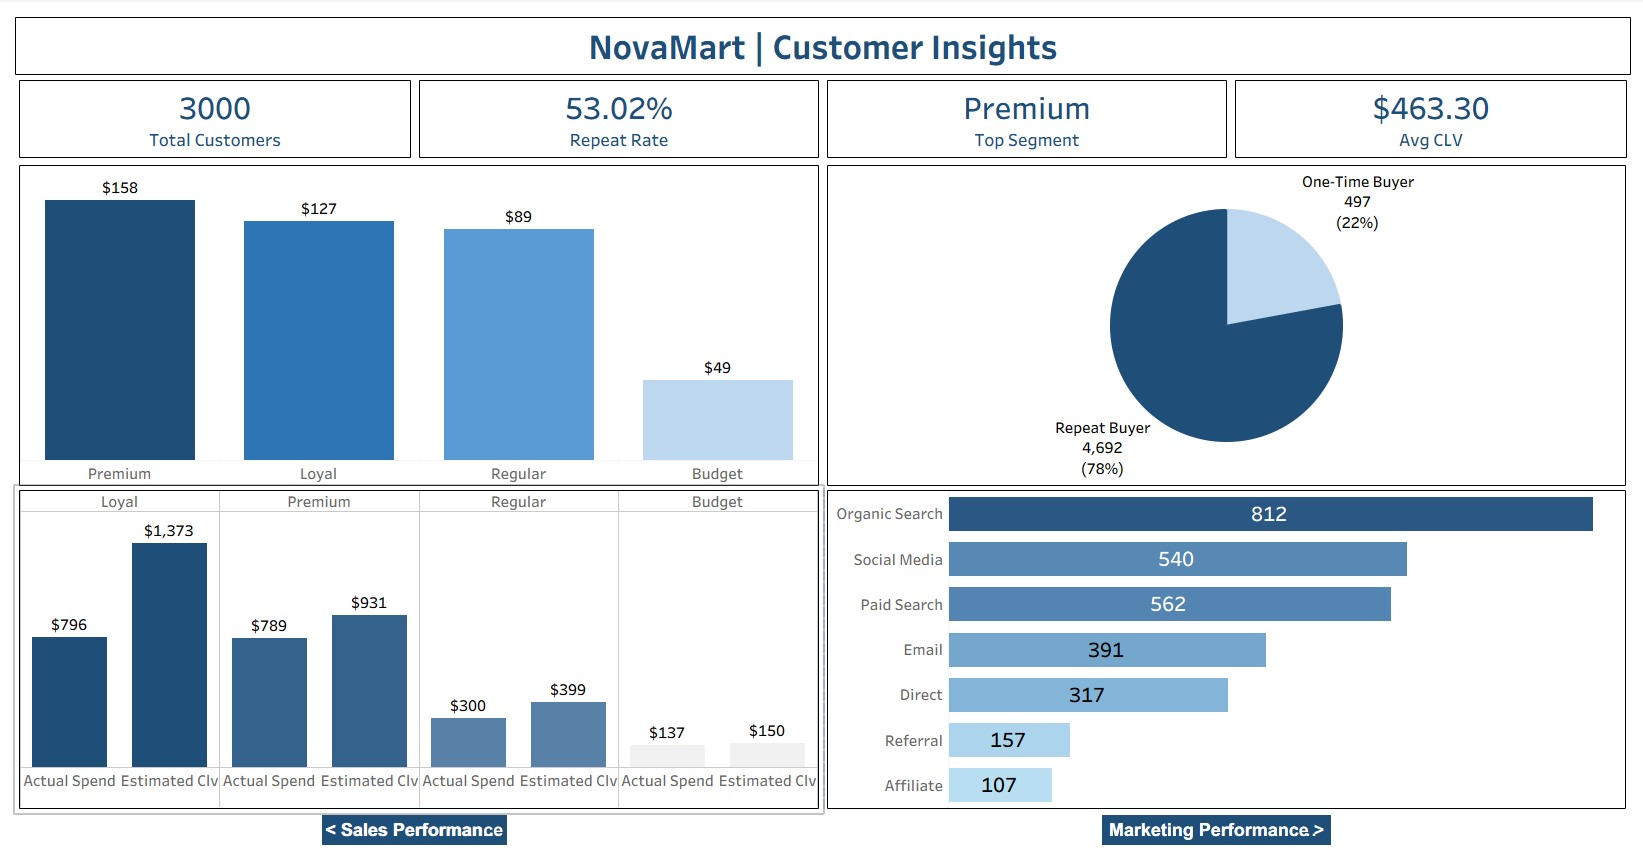

This screenshot's page, from the dashboard's own definition file:
{"tool":"tableau","page":{"name":"Dashboard 2","canvas":[1000,1000],"units":"permille","ordinal":1},"visuals":[{"type":"text","box":[6.7,12.9,986.1,77.6]},{"type":"text","box":[9.2,87,242.8,101.1]},{"type":"text","box":[252,87,247.7,101.1]},{"type":"text","box":[499.7,87,247.7,101.1]},{"type":"text","box":[747.4,87,242.8,101.1]},{"type":"worksheet","title":"Segment Performance","mark":"Automatic","rows":["order_total_cad"],"cols":["customer_segment"],"box":[9.1,186.8,490.6,386.6]},{"type":"worksheet","title":"Repeat vs One-Time Buyers","mark":"Pie","box":[499.7,186.8,490,386.6]},{"type":"worksheet","title":"CLV vs Actual Spend","mark":"Bar","cols":["customer_segment"],"box":[9.1,568.7,490.6,384.3]},{"type":"worksheet","title":"Acquisition by Channel","mark":"Automatic","rows":["acquisition_channel"],"cols":["customer_id"],"box":[499.7,568.7,490,384.3]},{"type":"blank","box":[11.5,954.2,974.5,37.6]},{"type":"dashboard-object","box":[663.6,955.4,156,35.2]},{"type":"dashboard-object","box":[198.5,956.5,128.1,34.1]}]}

Visuals, with their boxes on the dashboard's canvas, which has no fixed pixel size, in thousandths of its width and height (x1, y1, x2, y2). These are canvas units, not pixel positions in the 1643x850 screenshot, which may show the page scaled, cropped or inside an application window:
text: select_region(7, 13, 993, 90)
text: select_region(9, 87, 252, 188)
text: select_region(252, 87, 500, 188)
text: select_region(500, 87, 747, 188)
text: select_region(747, 87, 990, 188)
"Segment Performance" worksheet: select_region(9, 187, 500, 573)
"Repeat vs One-Time Buyers" worksheet (Pie marks): select_region(500, 187, 990, 573)
"CLV vs Actual Spend" worksheet (Bar marks): select_region(9, 569, 500, 953)
"Acquisition by Channel" worksheet: select_region(500, 569, 990, 953)
blank: select_region(12, 954, 986, 992)
dashboard-object: select_region(664, 955, 820, 991)
dashboard-object: select_region(198, 956, 327, 991)
